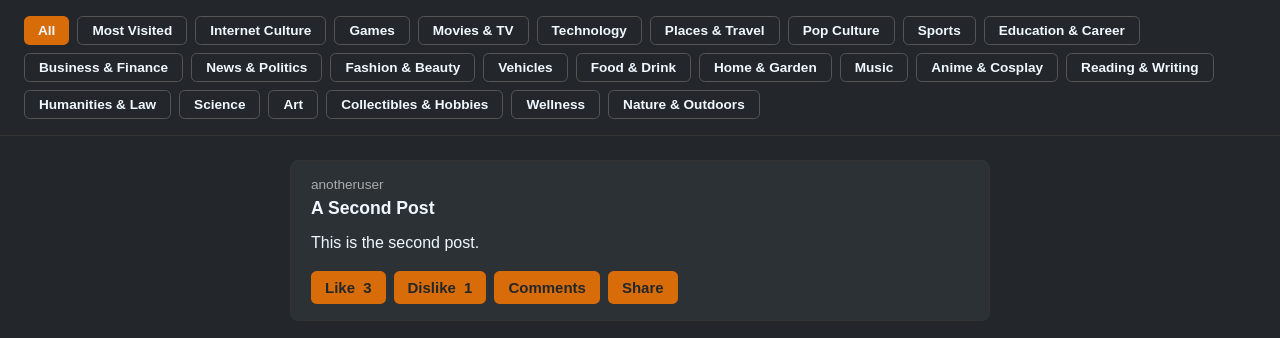
Scenario: search and category filter work together
This screenshot has width=1280, height=338.
Click the button "Science": (220, 104) [179,90,260,119]
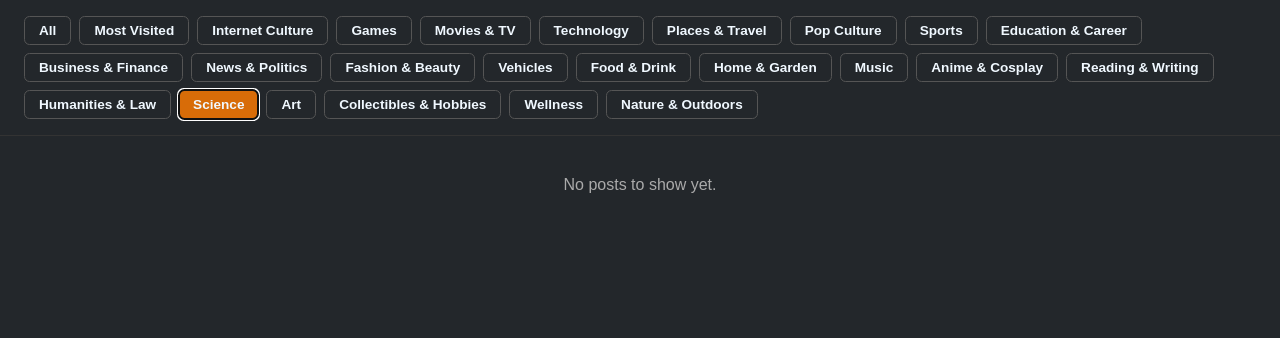
Result: the text "No posts to show yet." is shown at [564,176,716,193]
